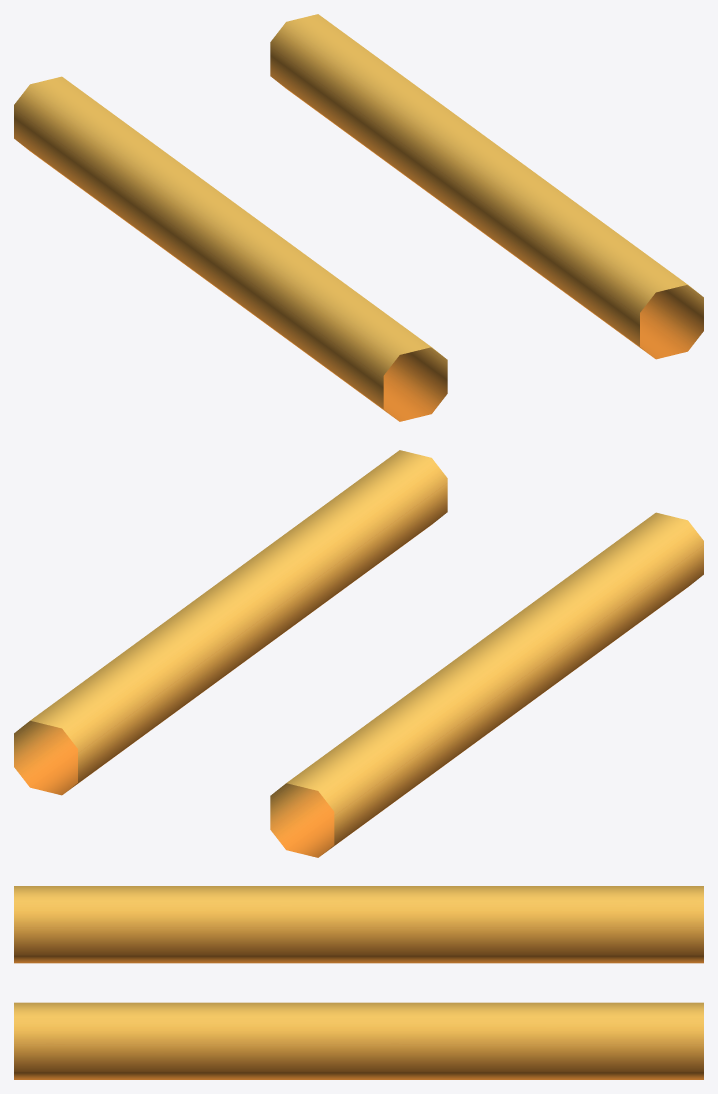
File: coaster-mouse-track.glb
3 views of the same model, one above another, from view 1: azimuth 30°, elevation 25°; view 2: azimuth 150°, elevation 25°; view 3: azimuth 270°, elevation 25° (orthographic). The views are drawn at different scales.
Visible parts, largest first — view 1: coaster-mouse-track; view 2: coaster-mouse-track; view 3: coaster-mouse-track.
Part boxes in pixels (x1,y1,x2,y2): coaster-mouse-track: (14, 14, 703, 421); coaster-mouse-track: (14, 450, 703, 857); coaster-mouse-track: (14, 886, 703, 1079).
Bounding box in the file's own units: 0.5001 × 0.1 × 1.
Materials: 1 (1 with a texture image).
